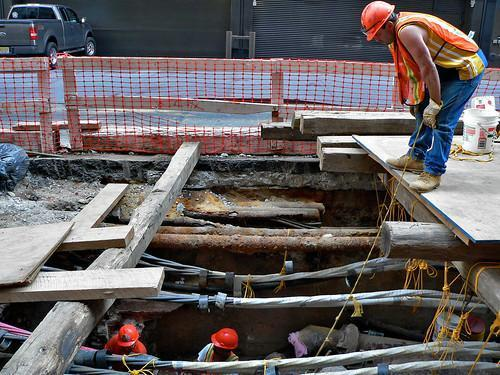vest: (388, 13, 484, 106)
